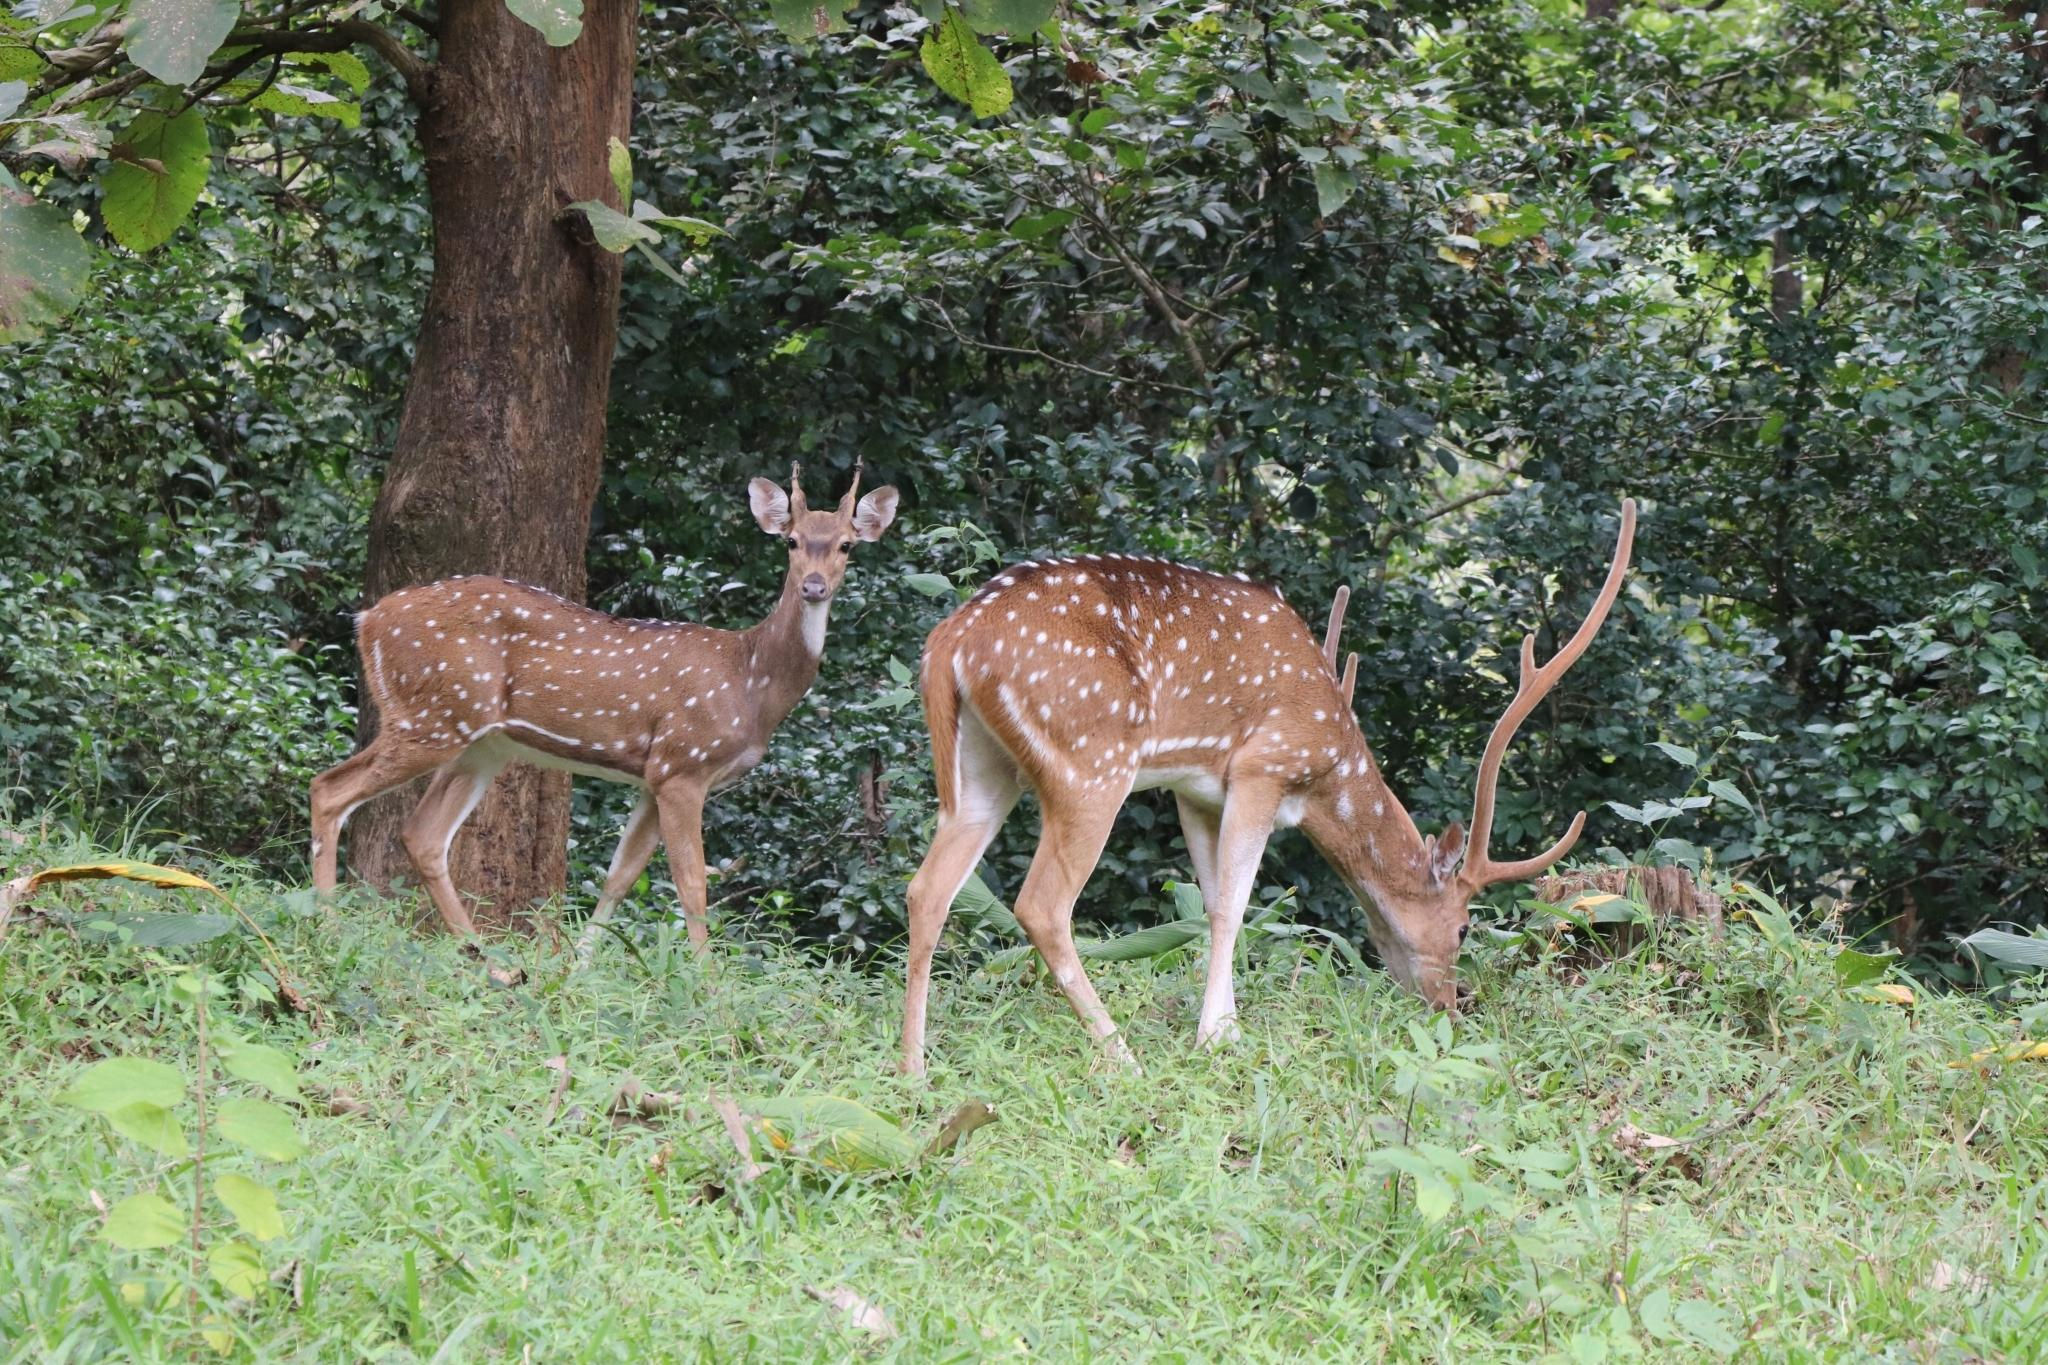Deer: (901, 500, 1637, 1074), (311, 463, 897, 952)
